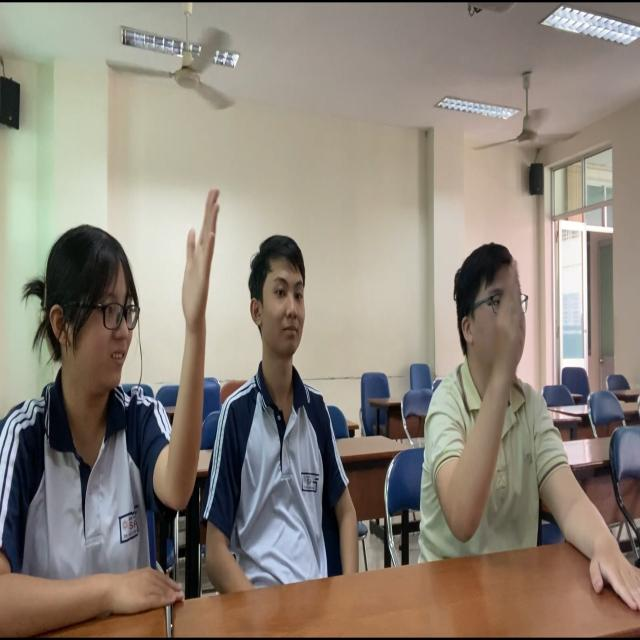raise_hand: (12, 184, 224, 616), (418, 225, 583, 584)
